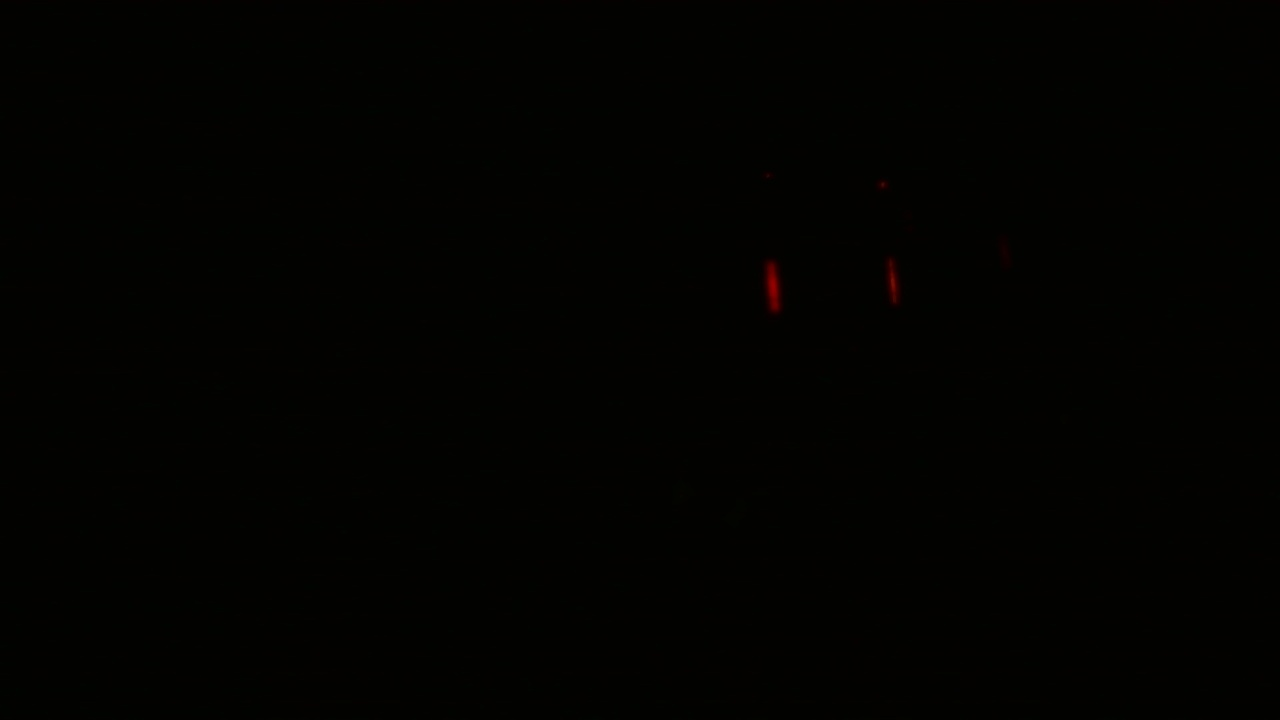pair1: (759, 254, 904, 308)
